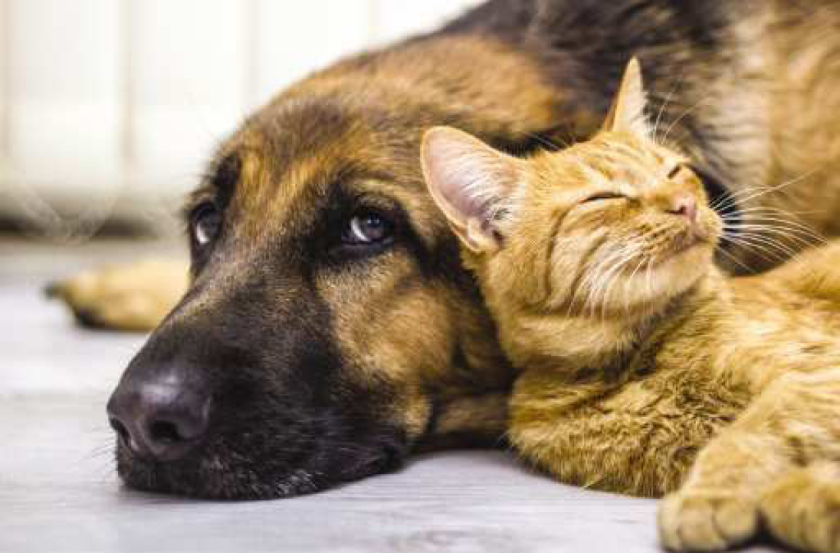cat: (405, 48, 731, 324)
dog: (99, 39, 559, 513)
